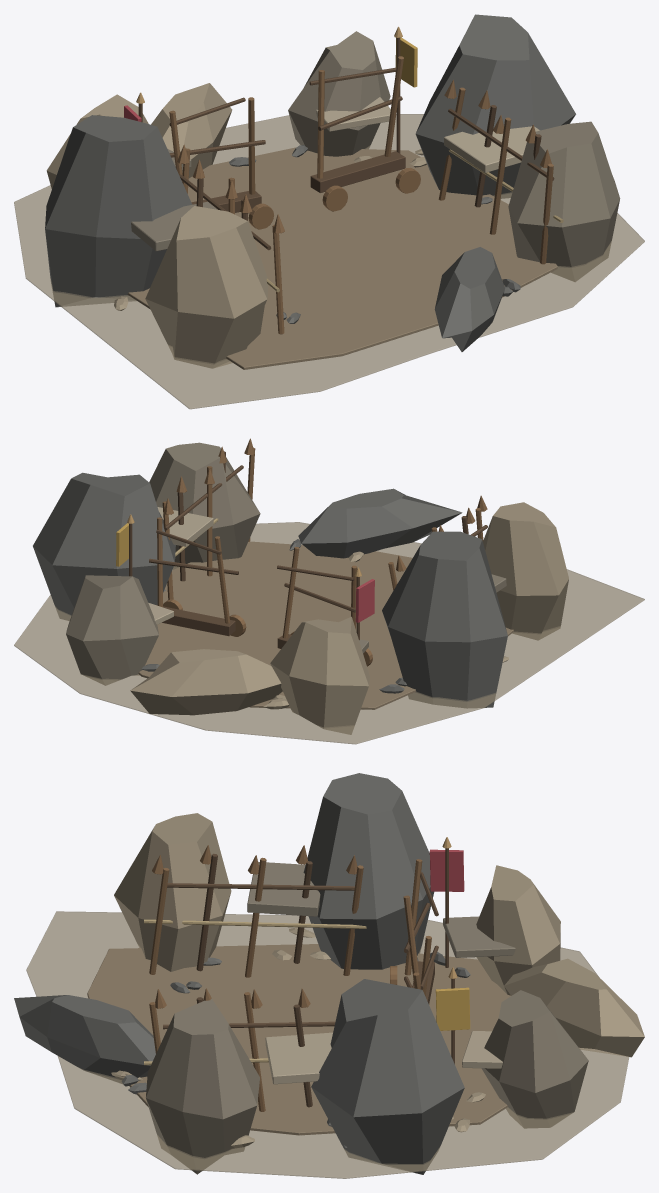
File: gate-cliff-siege-set.glb
3 views of the same model, one above another, from view 1: azimuth 30°, elevation 25°; view 2: azimuth 150°, elevation 25°; view 3: azimuth 270°, elevation 25° (orthographic). The views are drawn at different scales.
Visible parts, largest first — view 1: gate_depth_trampled_shelf, gate_depth_shadow_wash, gate_depth_cliff_mass_1, gate_depth_cliff_mass_0, gate_depth_cliff_mass_4, gate_depth_cliff_mass_3, gate_depth_cliff_mass_5, gate_depth_cliff_mass_7, gate_depth_cliff_mass_6, gate_depth_cut_terrace_1, gate_depth_siege_sill_1, gate_depth_cut_terrace_0 (+10 smaller); view 2: gate_depth_shadow_wash, gate_depth_trampled_shelf, gate_depth_cliff_mass_1, gate_depth_cliff_mass_4, gate_depth_cliff_mass_0, gate_depth_cliff_mass_2, gate_depth_cliff_mass_5, gate_depth_cliff_mass_6, gate_depth_cliff_mass_3, gate_depth_cliff_mass_7, gate_depth_siege_sill_1, gate_depth_cut_terrace_1 (+6 smaller); view 3: gate_depth_shadow_wash, gate_depth_trampled_shelf, gate_depth_cliff_mass_4, gate_depth_cliff_mass_1, gate_depth_cliff_mass_3, gate_depth_cliff_mass_0, gate_depth_cliff_mass_5, gate_depth_cliff_mass_7, gate_depth_cliff_mass_6, gate_depth_cliff_mass_2, gate_depth_cut_terrace_1, gate_depth_cut_terrace_0 (+12 smaller).
Part boxes in pixels (x1,y1,x2,y2): gate_depth_trampled_shelf: (127, 147, 557, 369); gate_depth_shadow_wash: (14, 114, 644, 409); gate_depth_cliff_mass_1: (45, 115, 192, 307); gate_depth_cliff_mass_0: (145, 206, 268, 368); gate_depth_cliff_mass_4: (415, 14, 575, 198); gate_depth_cliff_mass_3: (508, 121, 620, 281); gate_depth_cliff_mass_5: (288, 31, 390, 156); gate_depth_cliff_mass_7: (434, 247, 504, 351); gate_depth_cliff_mass_6: (151, 83, 232, 178); gate_depth_cut_terrace_1: (444, 126, 539, 172); gate_depth_siege_sill_1: (310, 151, 405, 192); gate_depth_cut_terrace_0: (131, 201, 217, 251); gate_depth_shadow_wash: (14, 522, 644, 744); gate_depth_trampled_shelf: (138, 541, 513, 709); gate_depth_cliff_mass_1: (382, 531, 507, 708); gate_depth_cliff_mass_4: (33, 472, 175, 620); gate_depth_cliff_mass_0: (483, 502, 568, 640); gate_depth_cliff_mass_2: (270, 616, 369, 734); gate_depth_cliff_mass_5: (66, 575, 158, 685); gate_depth_cliff_mass_6: (130, 649, 282, 715); gate_depth_cliff_mass_3: (149, 442, 260, 569); gate_depth_cliff_mass_7: (298, 488, 462, 558); gate_depth_siege_sill_1: (156, 605, 235, 636); gate_depth_cut_terrace_1: (157, 507, 213, 546); gate_depth_shadow_wash: (26, 911, 629, 1178); gate_depth_trampled_shelf: (87, 944, 510, 1135); gate_depth_cliff_mass_4: (311, 979, 464, 1174); gate_depth_cliff_mass_1: (303, 773, 434, 969); gate_depth_cliff_mass_3: (146, 998, 259, 1174); gate_depth_cliff_mass_0: (114, 813, 231, 971); gate_depth_cliff_mass_5: (481, 990, 588, 1128); gate_depth_cliff_mass_7: (14, 995, 155, 1083); gate_depth_cliff_mass_6: (504, 958, 644, 1057); gate_depth_cliff_mass_2: (476, 865, 560, 995); gate_depth_cut_terrace_1: (265, 1032, 332, 1084); gate_depth_cut_terrace_0: (247, 861, 320, 916).
Bounding box in the file's own units: 10.52 × 3.31 × 10.53.
